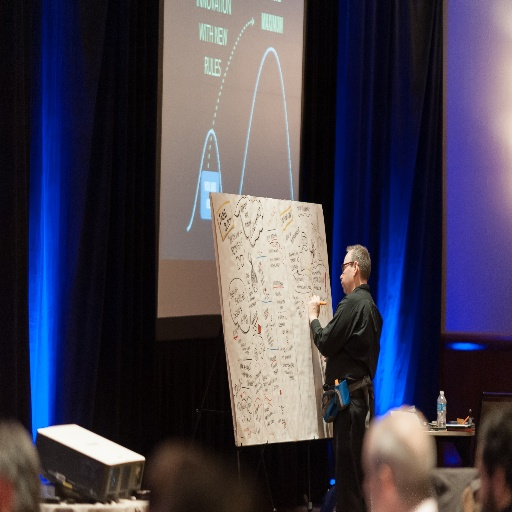hand: (304, 288, 325, 322), (322, 355, 326, 363)
